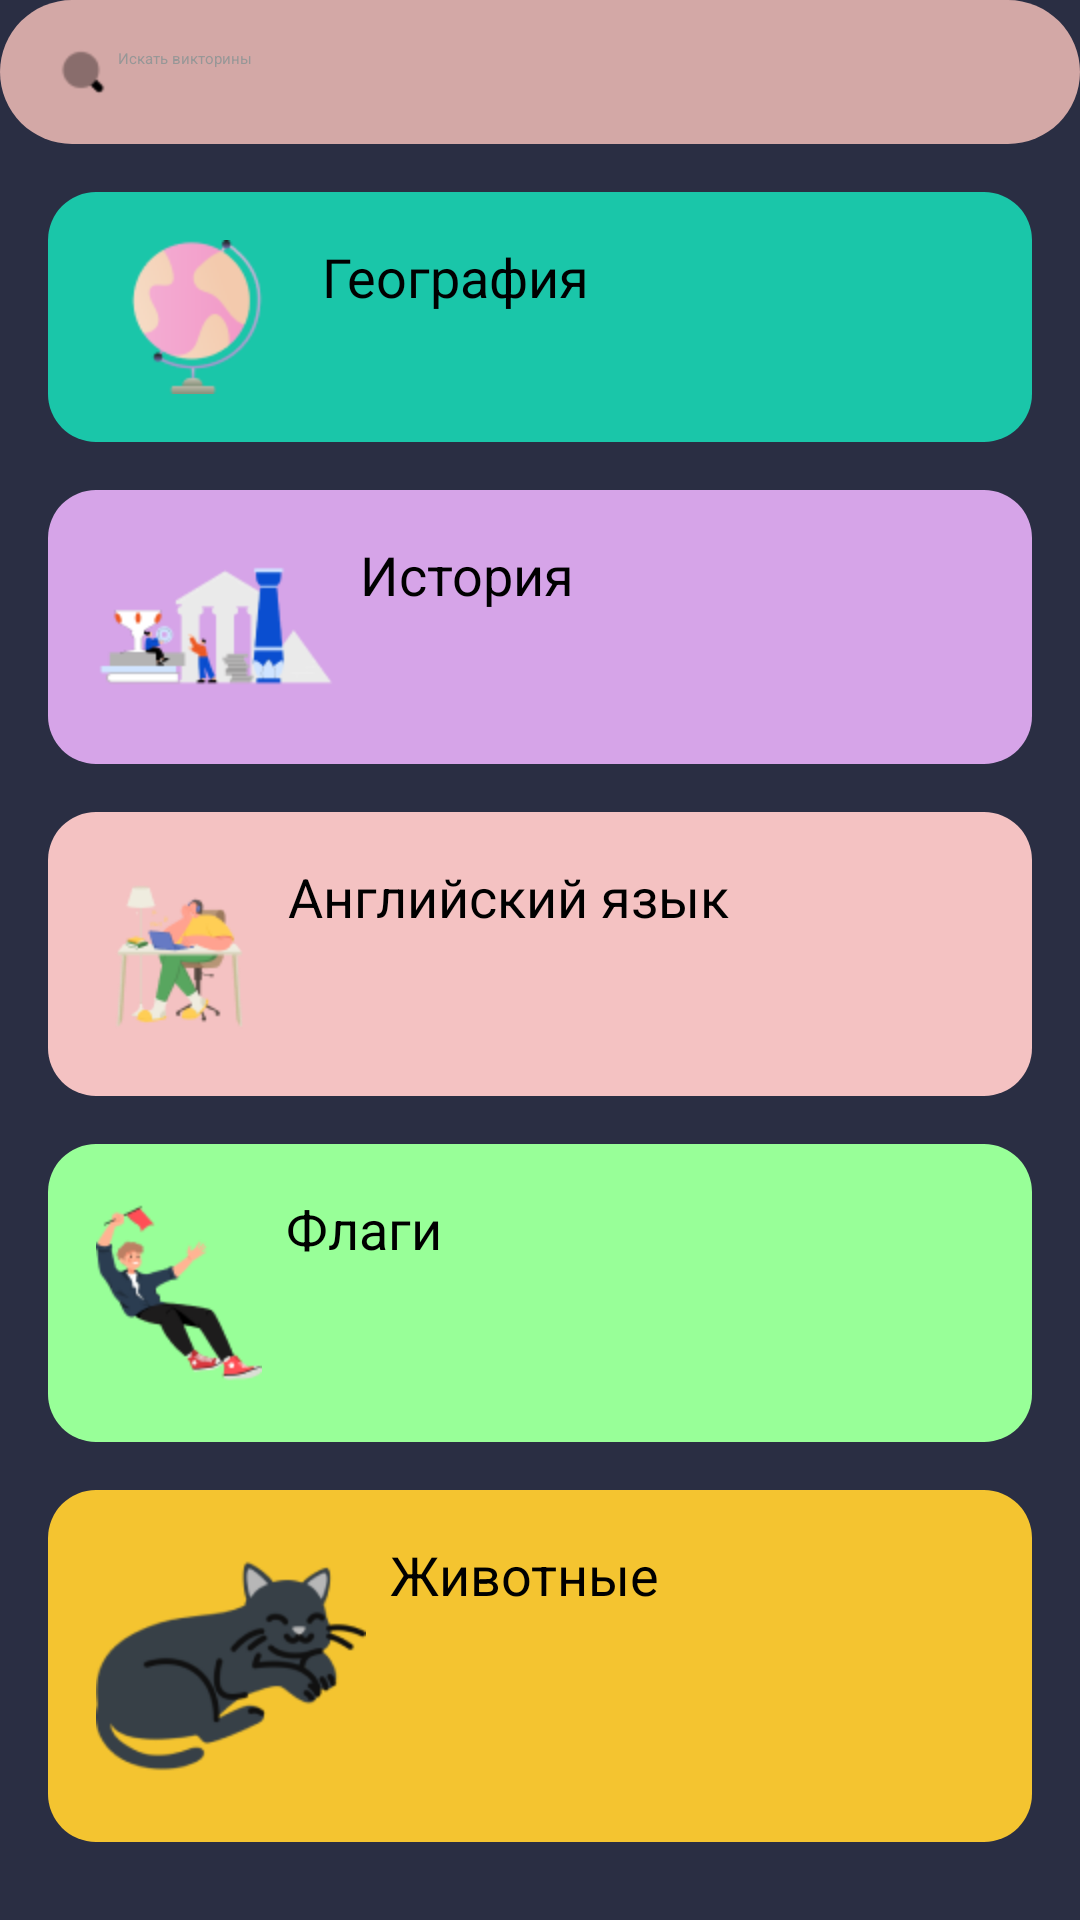

Locate icon controls on the screen. Image size 1080×1920, boxes as (x1, y1, x2, y2).
animals: (96, 1562, 366, 1770)
flags: (96, 1206, 262, 1380)
geography: (132, 240, 262, 394)
history: (101, 568, 331, 684)
